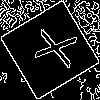X: (25, 25, 77, 69)
